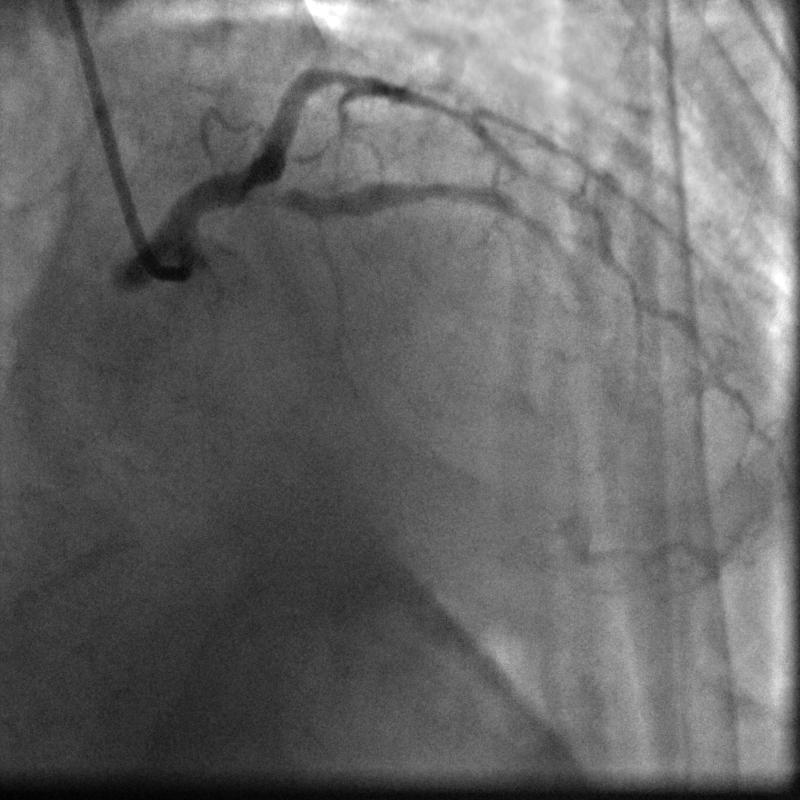Stenosis: (251, 169, 294, 214)
